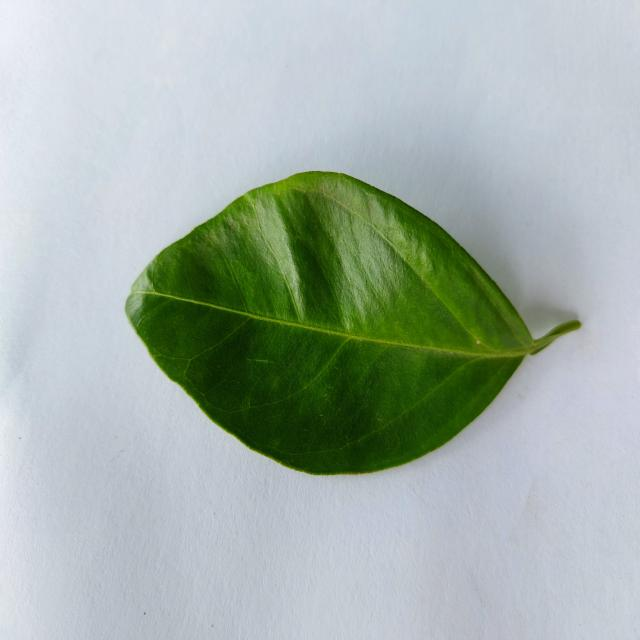greening: (126, 172, 580, 474)
